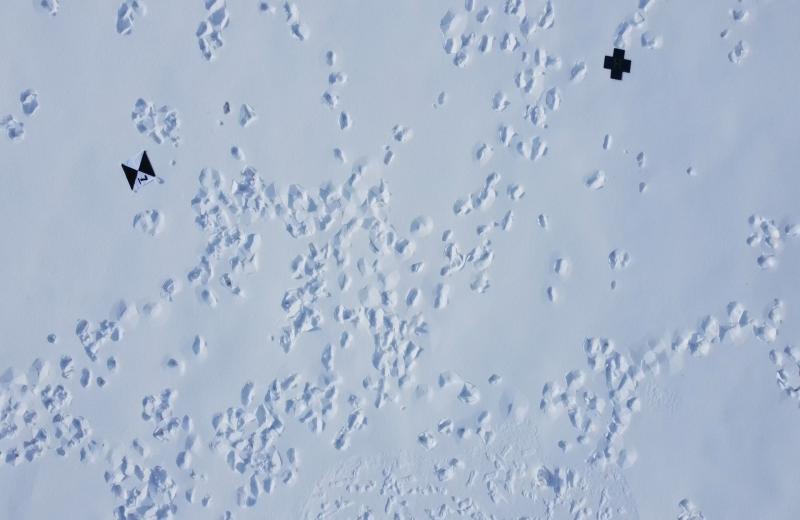Cross: (598, 44, 633, 83)
